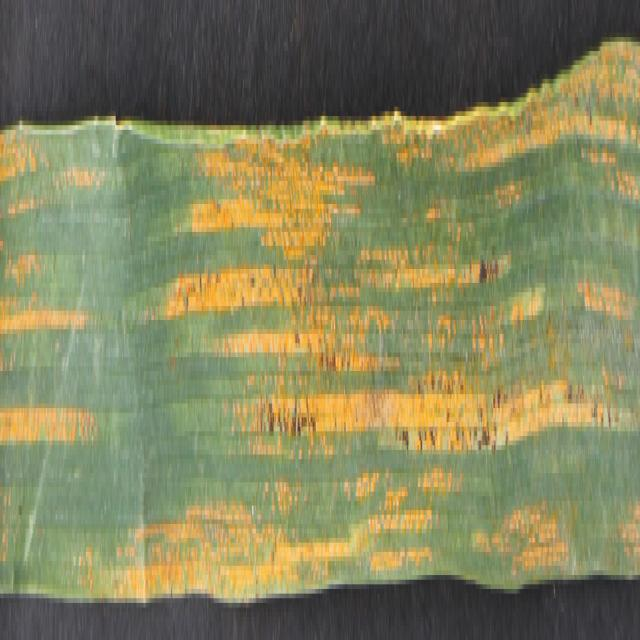leaf rust: (0, 37, 640, 589)
